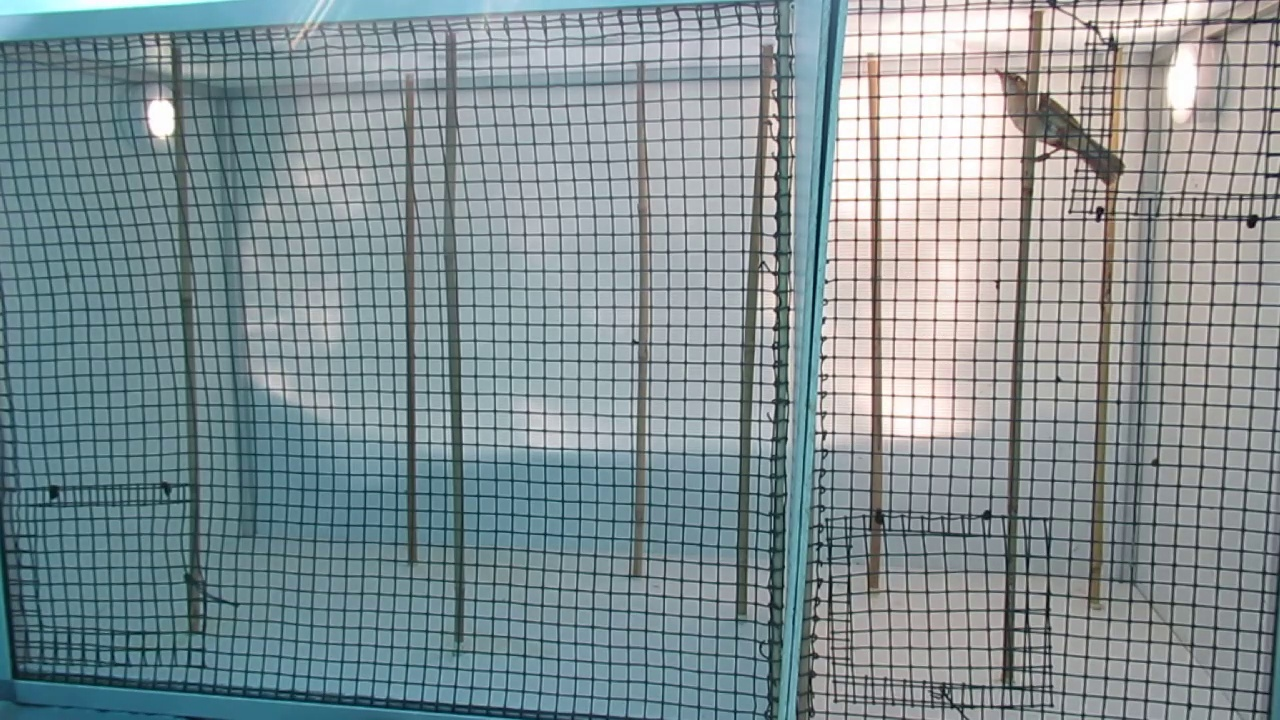bird: (993, 66, 1129, 188)
stick: (1002, 13, 1044, 684), (733, 46, 777, 617), (1089, 45, 1131, 605), (431, 37, 468, 643), (170, 49, 206, 630), (631, 60, 652, 575), (866, 59, 885, 588), (401, 78, 421, 564)
